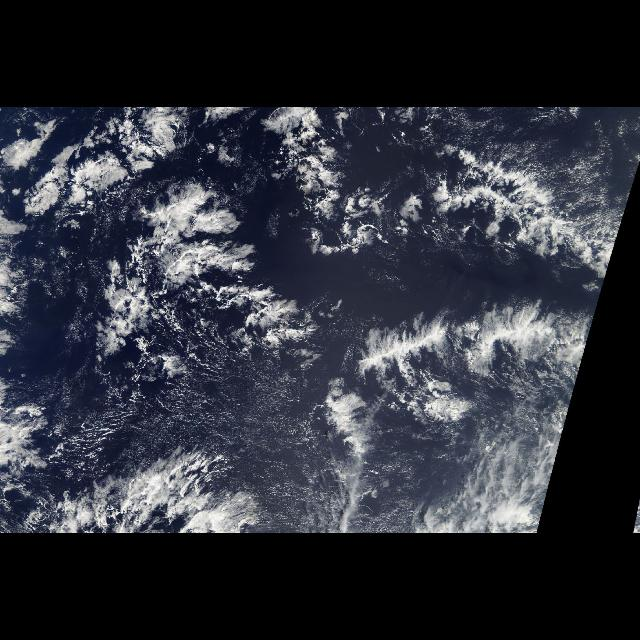Fish: (6, 109, 632, 532)
Sugar: (35, 323, 395, 533)
